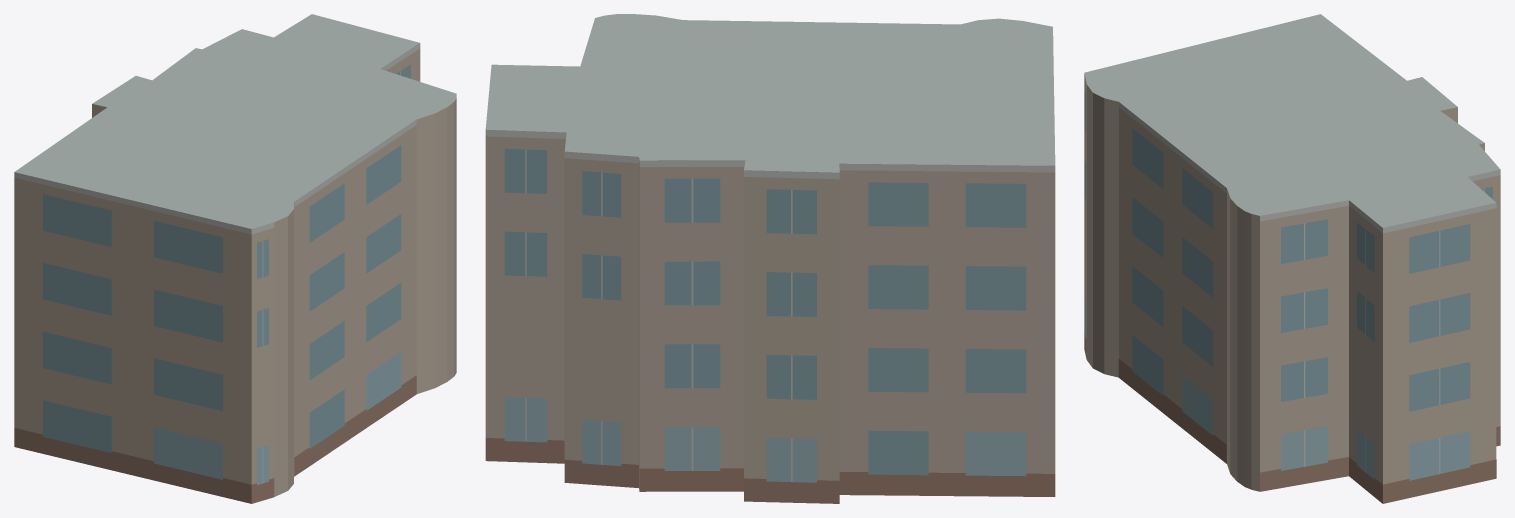
Rendered from survey-upis-32672840.glb.
3 views of the same model, side by side, from view 1: azimuth 30°, elevation 25°; view 2: azimuth 150°, elevation 25°; view 3: azimuth 270°, elevation 25° (orthographic). The views are drawn at different scales.
Visible parts, largest first — view 1: survey-upis-32672840.tmp; view 2: survey-upis-32672840.tmp; view 3: survey-upis-32672840.tmp.
Boxes of the visible parts, x1,y1,x2,y2 form: survey-upis-32672840.tmp: [14, 14, 456, 503]; survey-upis-32672840.tmp: [485, 14, 1055, 503]; survey-upis-32672840.tmp: [1084, 14, 1500, 503].
Bounding box in the file's own units: 20.3 × 12.2 × 16.7.
